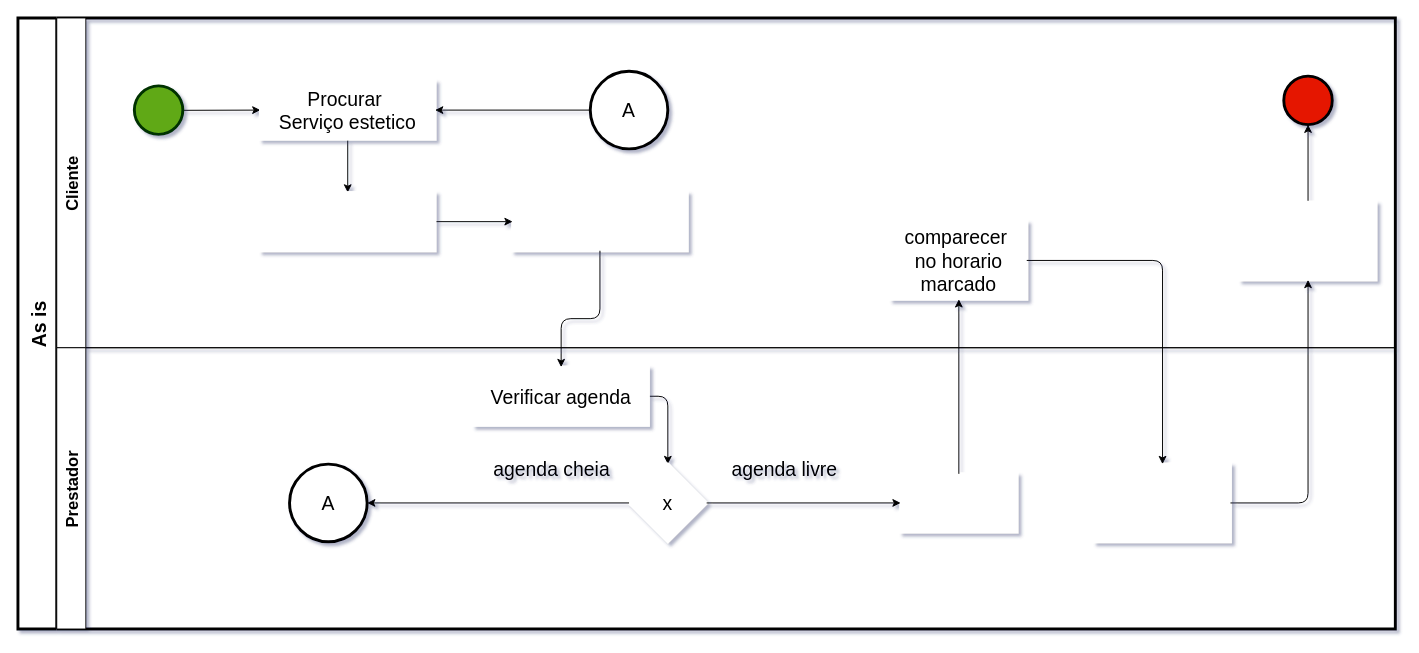
Some shapes in this 1419 by 653 pixel diagram are drawn without their labels. Each missing label, with the centre of its shape:
"Escolher horario" goes at pixel 347 221.
"executar o serviço" goes at pixel 1162 502.
"Marcar horario" goes at pixel 958 502.
"Realizar pagamento" goes at pixel 1307 240.
"Solicitar Serviço estetico" goes at pixel 599 221.
